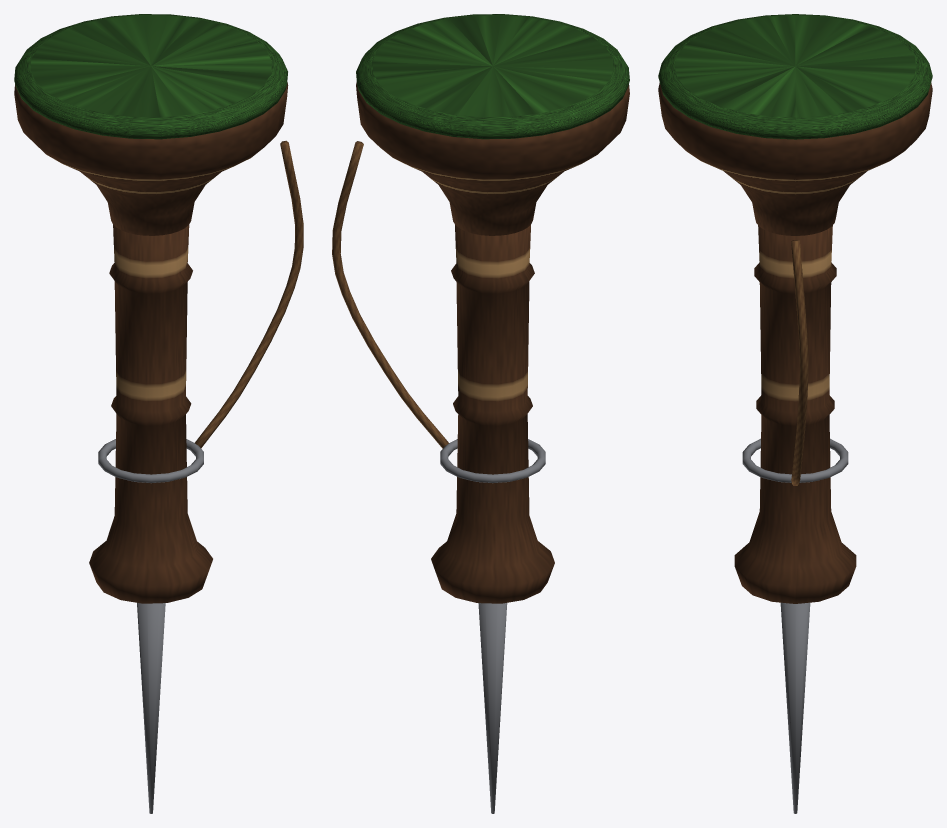
Rendered from wakr.glb.
The picture shows the model from 3 angles, left to right: view 1: azimuth 30°, elevation 25°; view 2: azimuth 150°, elevation 25°; view 3: azimuth 270°, elevation 25°; orthographic projection.
Visible parts, largest first — view 1: wakr_block, wakr_mursil; view 2: wakr_block, wakr_mursil; view 3: wakr_block, wakr_mursil.
Boxes of the visible parts, bbox=[...] form: wakr_block: bbox=[14, 14, 288, 813]; wakr_mursil: bbox=[195, 140, 303, 448]; wakr_block: bbox=[356, 14, 629, 813]; wakr_mursil: bbox=[332, 141, 448, 448]; wakr_block: bbox=[658, 14, 932, 813]; wakr_mursil: bbox=[791, 240, 808, 485].
Size of the model in its own units: 0.173 by 0.45 by 0.15.
1 material, 1 textured.
